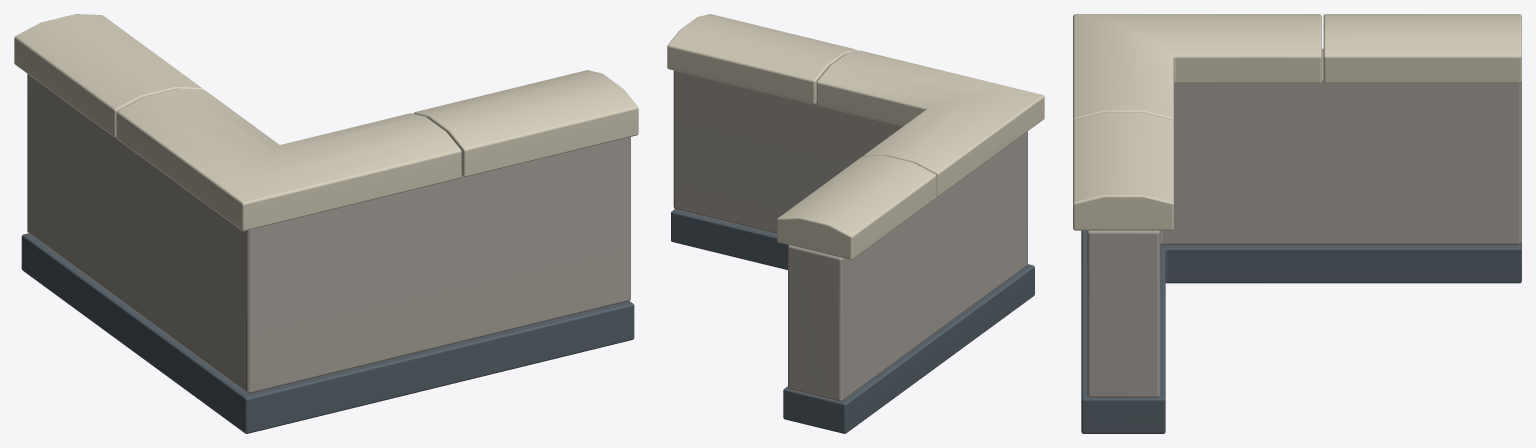
File: d02_domestic_details_02.glb
3 views of the same model, side by side, from view 1: azimuth 30°, elevation 25°; view 2: azimuth 150°, elevation 25°; view 3: azimuth 270°, elevation 25° (orthographic). The views are drawn at different scales.
Visible parts, largest first — view 1: D02DomesticDetails02_Mesh; view 2: D02DomesticDetails02_Mesh; view 3: D02DomesticDetails02_Mesh.
Part boxes in pixels (<box>): D02DomesticDetails02_Mesh: <box>14,14,638,433</box>; D02DomesticDetails02_Mesh: <box>667,14,1044,433</box>; D02DomesticDetails02_Mesh: <box>1073,14,1521,433</box>.
Size of the model in its own units: 1.6 by 0.94 by 1.6.
